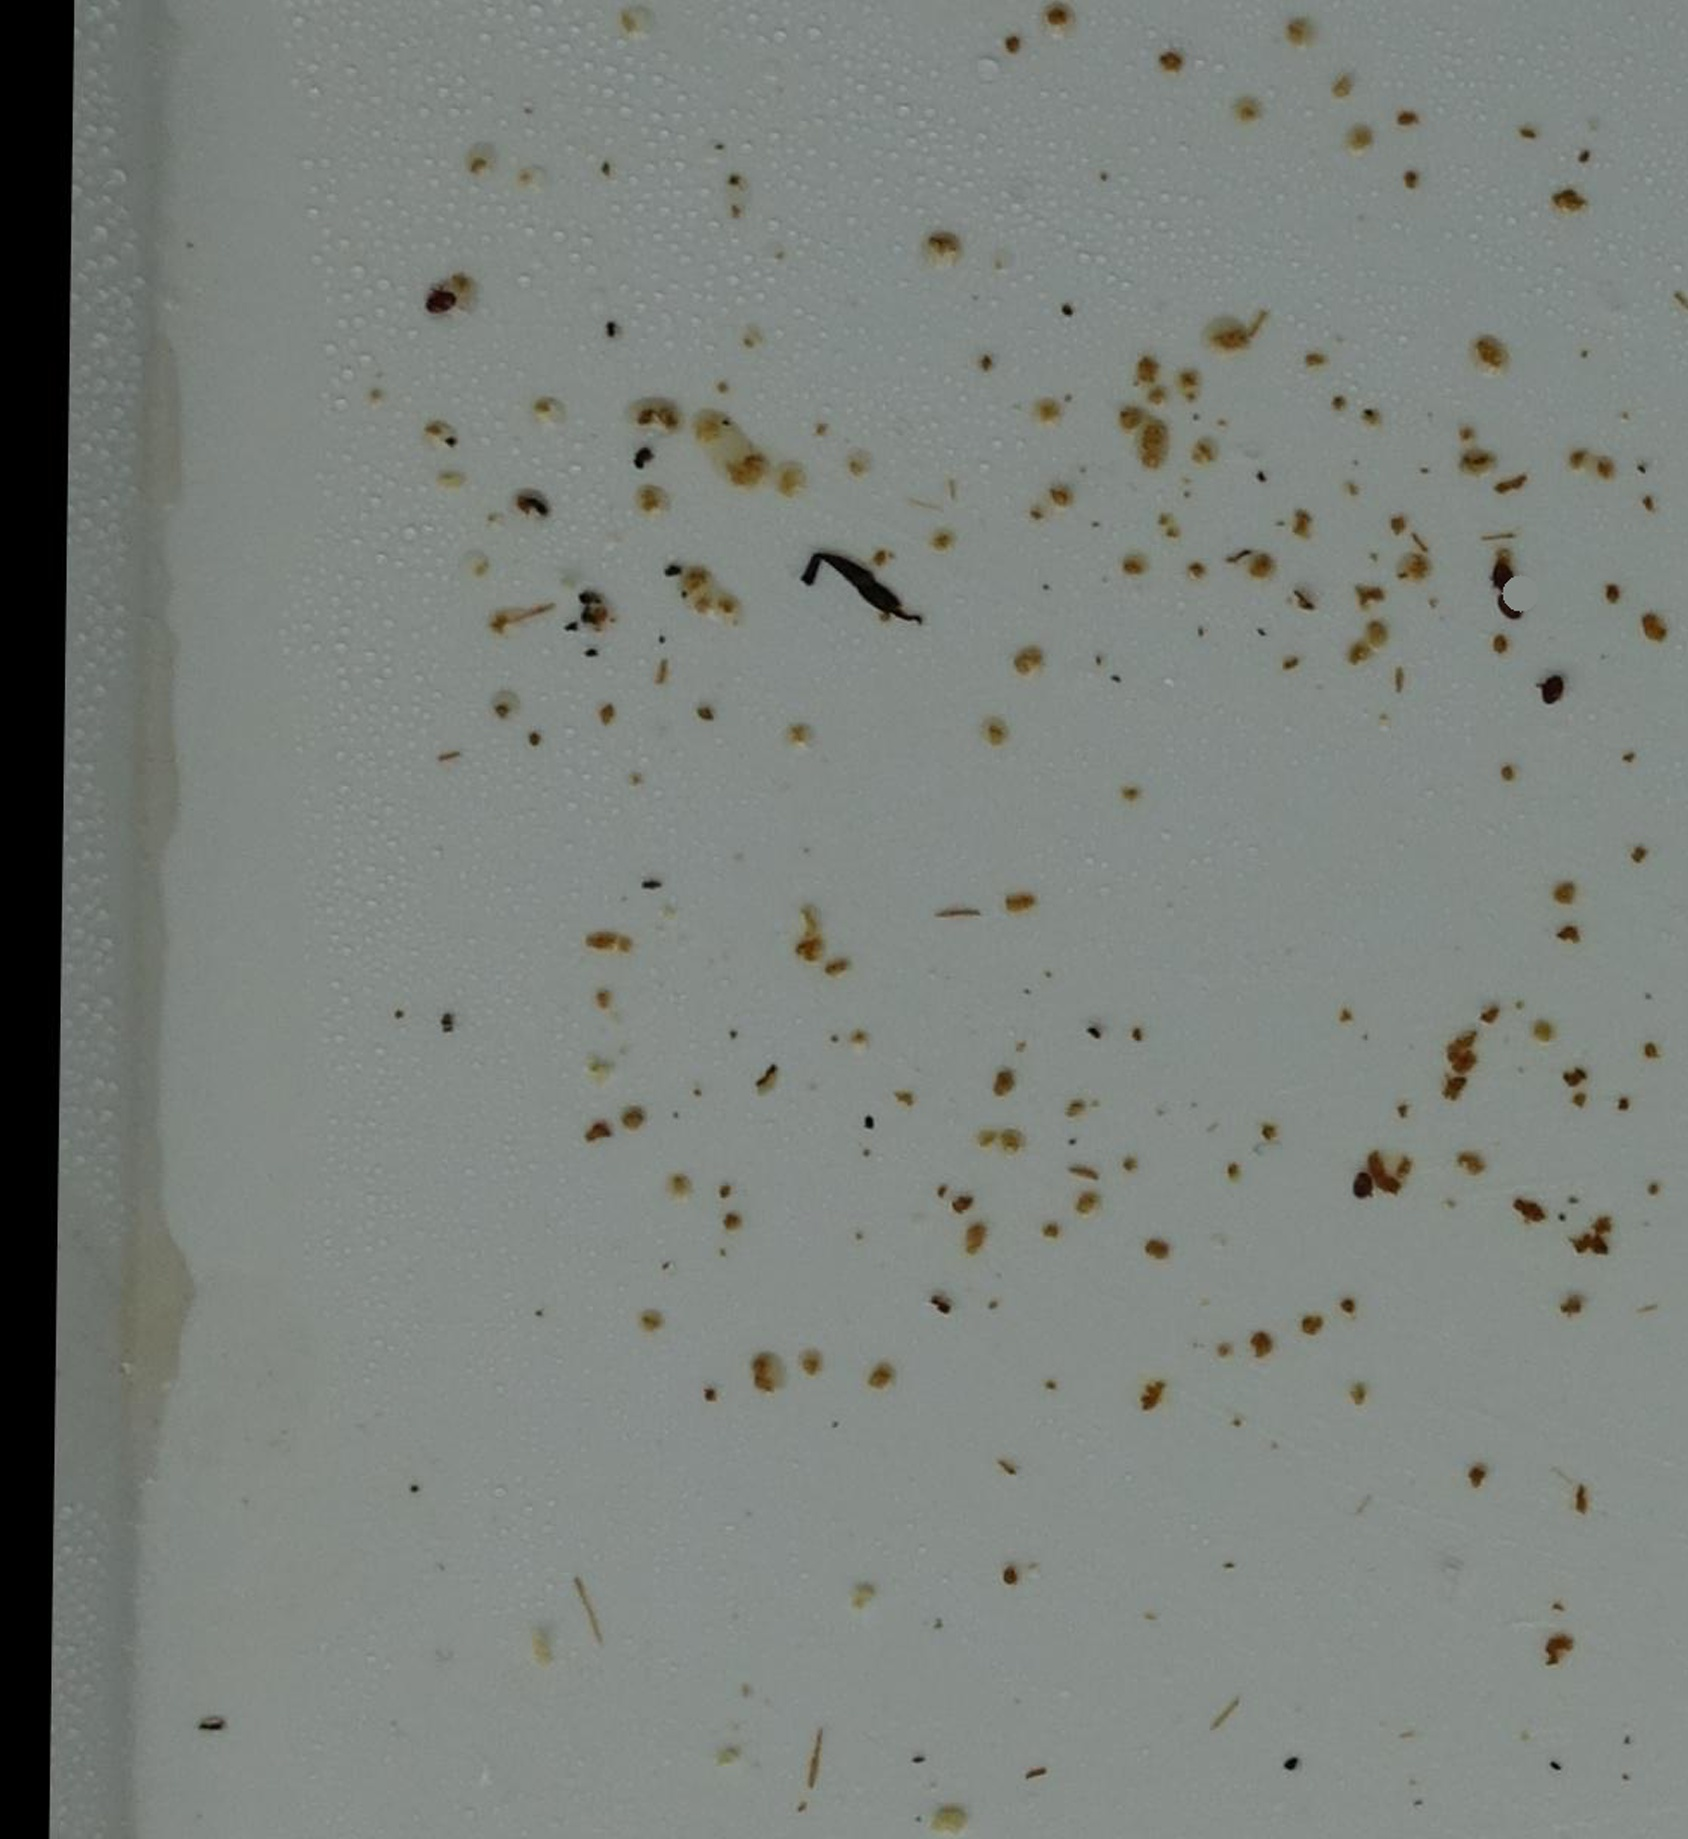Varroa: (420, 285, 460, 324), (1539, 670, 1569, 703), (1347, 1173, 1376, 1201), (1494, 591, 1521, 620), (1493, 569, 1518, 596)
